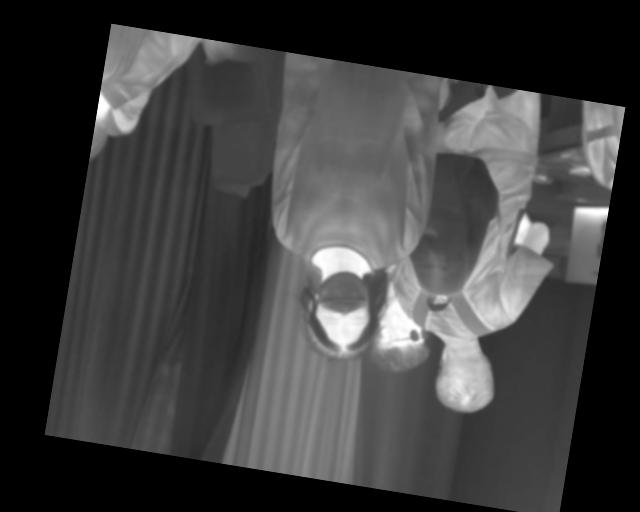face: (301, 266, 377, 362)
